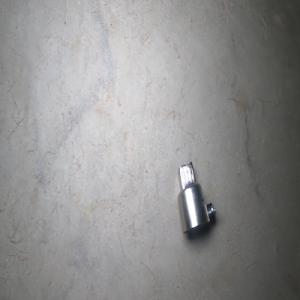MetalPart: (177, 160, 216, 234)
